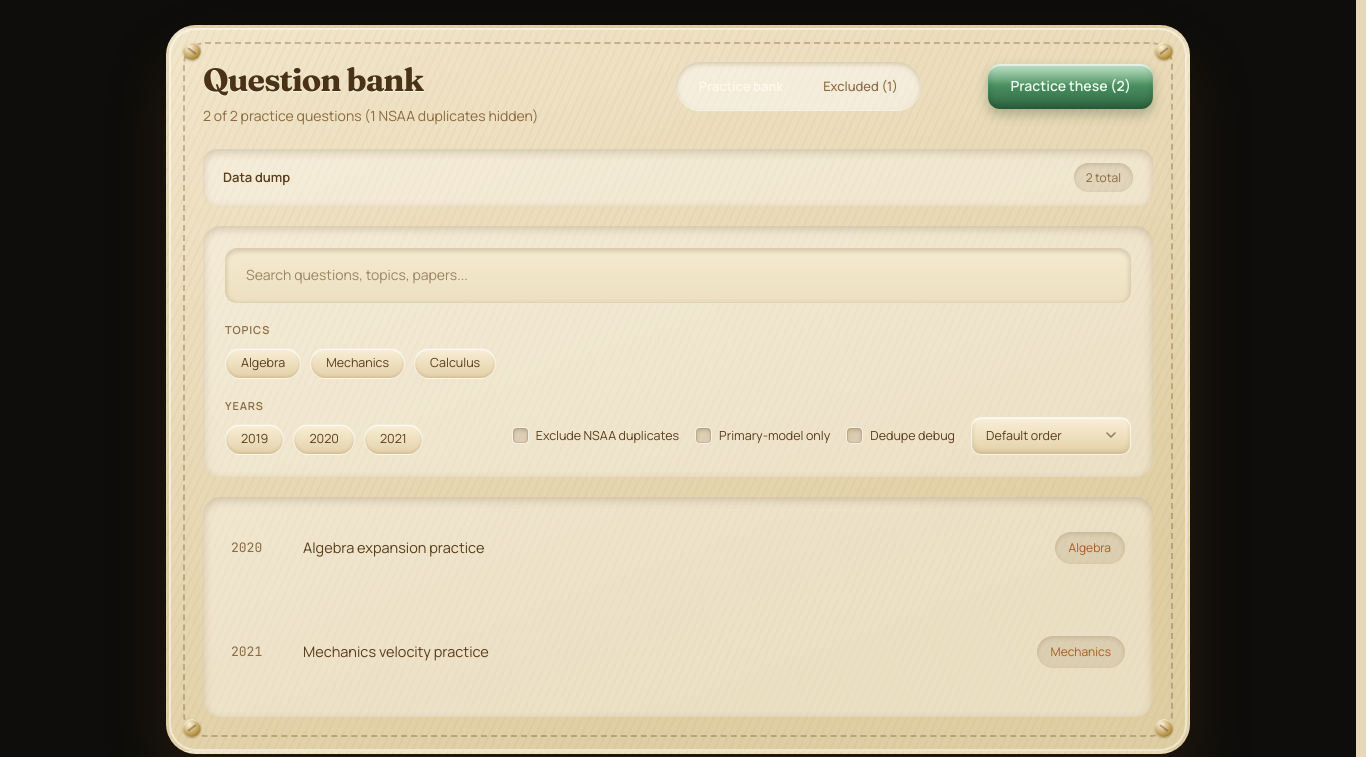
Test: QuestionBank › shows the dedupe debug panel with excluded pairs and near misses
Click the checkbox labelled "Dedupe debug" at (855,436), box [846,428,863,444]
(page scrolled)
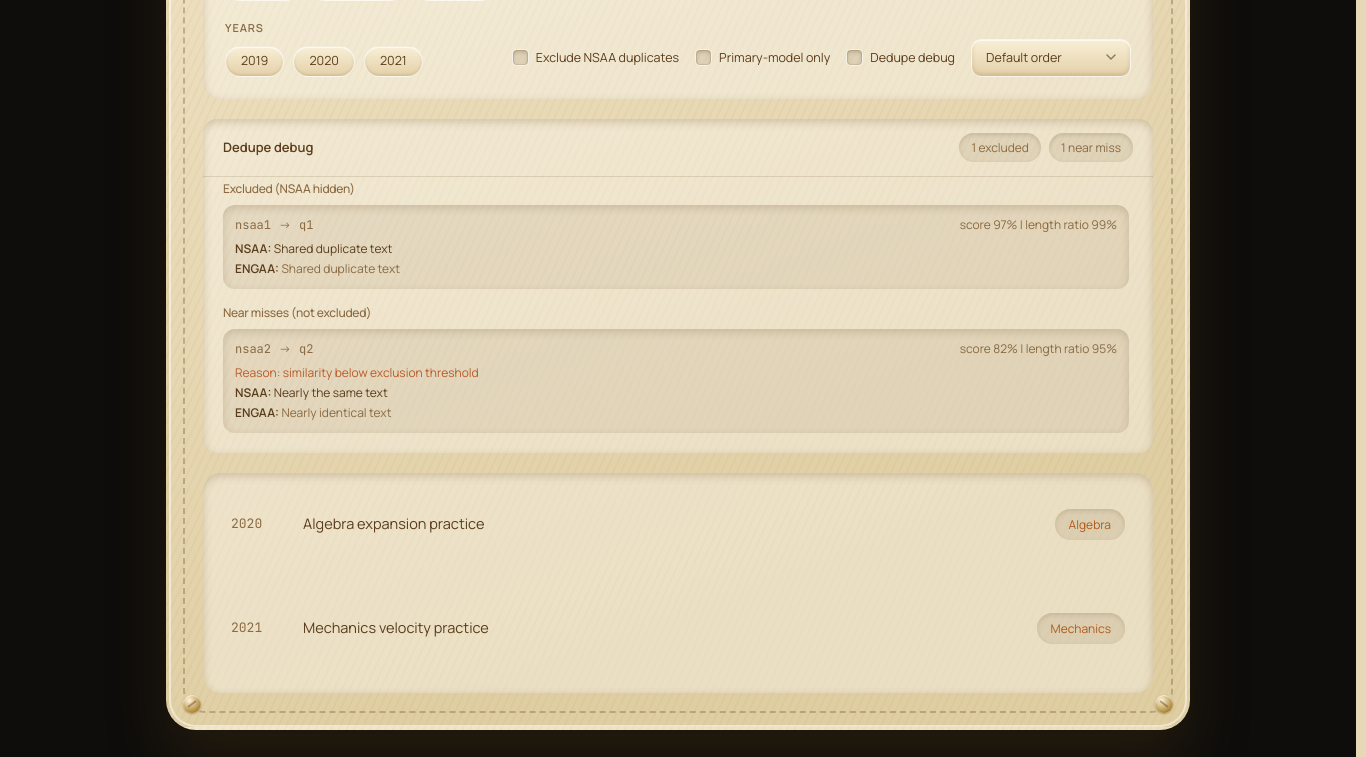
Expected: the text "1 excluded" is shown, [959,133,1041,162]
Expected: the text "1 near miss" is shown, [1049,133,1133,162]
Expected: the text "score 97% | length ratio 99%" is shown, [960,217,1117,233]
